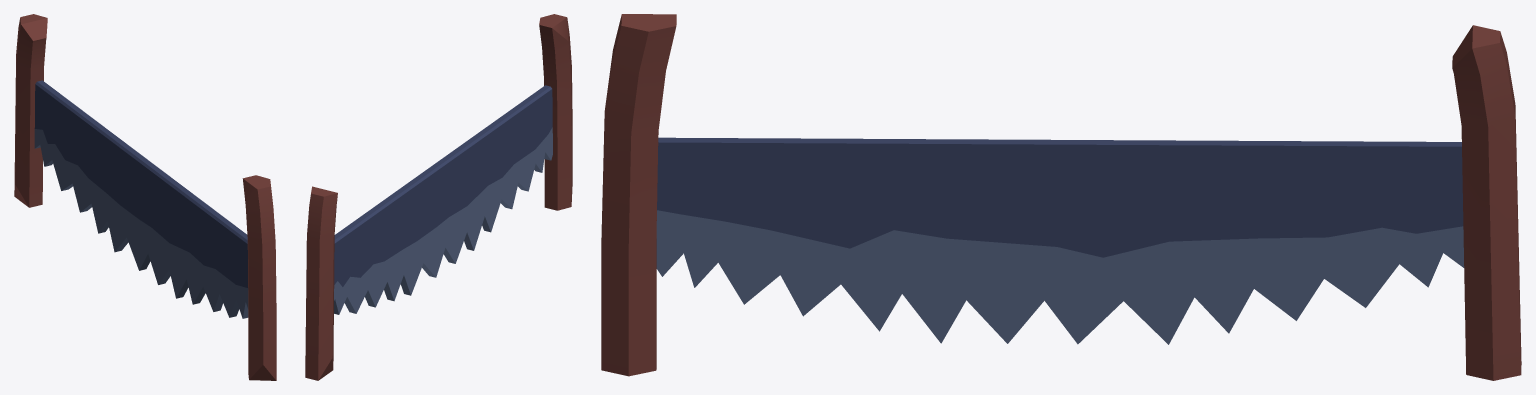
File: Saw_01.fbx
The picture shows the model from 3 angles, left to right: view 1: azimuth 30°, elevation 25°; view 2: azimuth 150°, elevation 25°; view 3: azimuth 270°, elevation 25°; orthographic projection. The views are drawn at different scales.
Visible parts, largest first — view 1: Saw.003; view 2: Saw.003; view 3: Saw.003.
Part boxes in pixels (left/top/right/bottom): Saw.003: left=14, top=14, right=276, bottom=380; Saw.003: left=305, top=14, right=572, bottom=380; Saw.003: left=601, top=14, right=1521, bottom=380.
Size of the model in its own units: 7.04 by 40.24 by 97.37.
